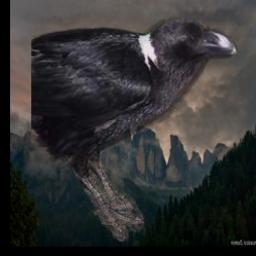Crow: (30, 17, 237, 243)
